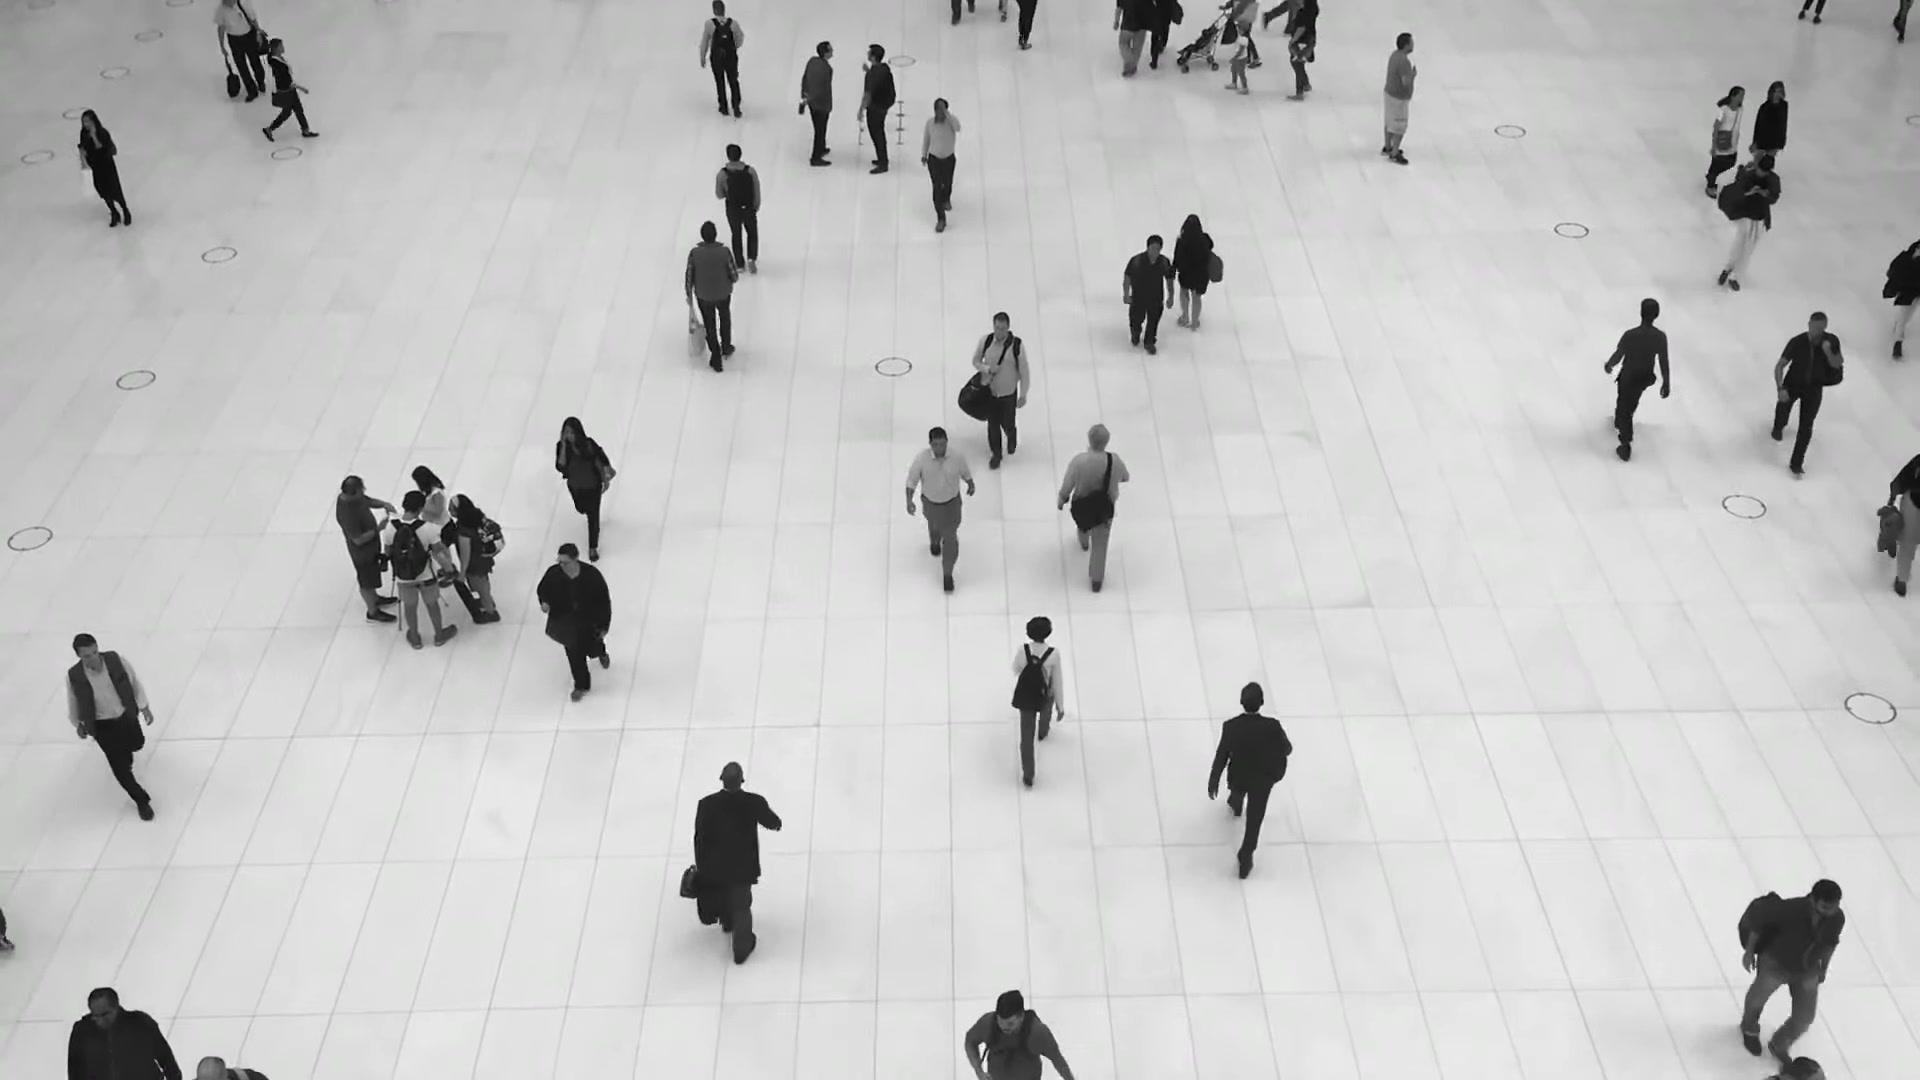person: (693, 762, 779, 973), (1745, 880, 1852, 1044), (1207, 683, 1291, 883), (65, 631, 152, 816), (1770, 311, 1845, 475), (536, 541, 613, 698), (382, 491, 458, 651), (1057, 423, 1128, 595), (906, 426, 975, 591), (1602, 298, 1670, 464), (66, 987, 181, 1080), (335, 474, 400, 629), (1010, 615, 1065, 788), (1715, 153, 1781, 292), (972, 312, 1030, 468), (555, 415, 616, 557), (684, 222, 739, 375), (448, 493, 502, 624), (77, 108, 132, 228), (1120, 234, 1174, 353), (715, 143, 763, 274), (914, 96, 962, 228), (410, 465, 459, 590), (263, 37, 315, 141), (699, 1, 745, 117), (1380, 30, 1418, 166), (856, 44, 896, 174), (1172, 215, 1214, 334), (1703, 85, 1745, 198), (799, 40, 834, 168), (1284, 0, 1319, 101), (1747, 80, 1788, 165), (1222, 24, 1252, 96)
